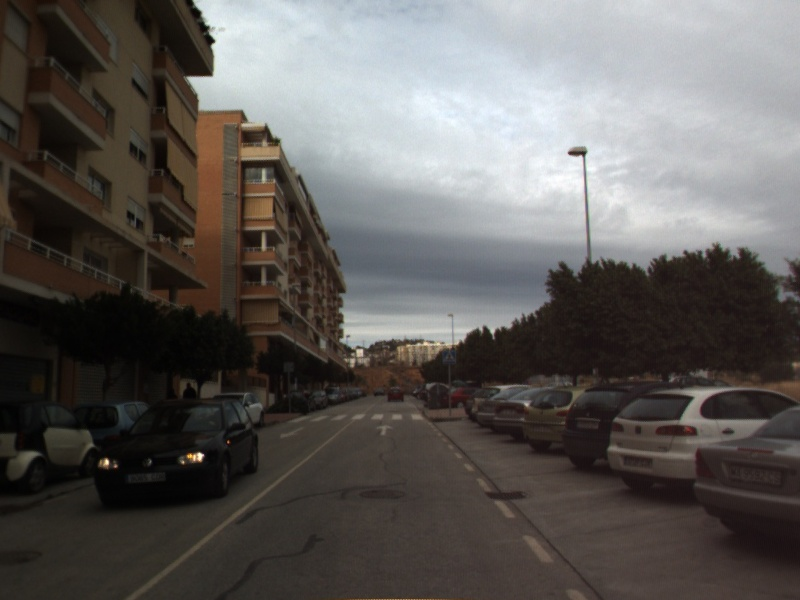STRAIGHT: (374, 422, 396, 437)
